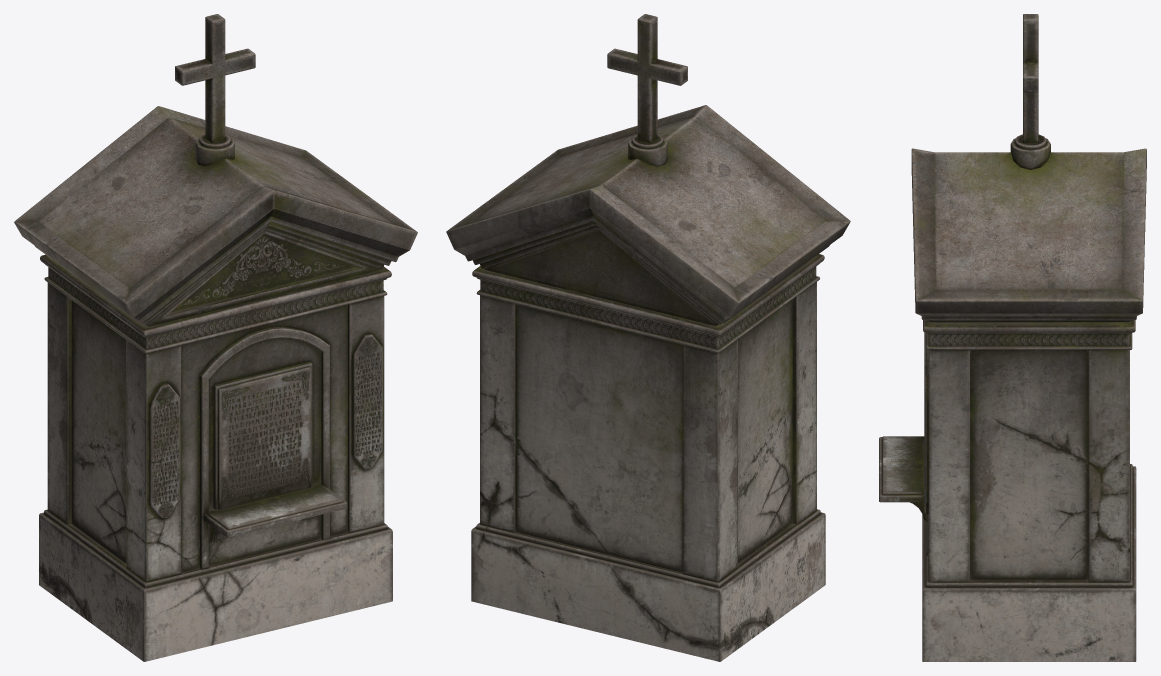
Rendered from SM_crypt_08.fbx.
The picture shows the model from 3 angles, left to right: view 1: azimuth 30°, elevation 25°; view 2: azimuth 150°, elevation 25°; view 3: azimuth 270°, elevation 25°; orthographic projection.
Visible parts, largest first — view 1: SM_crypt_08; view 2: SM_crypt_08; view 3: SM_crypt_08.
Boxes of the visible parts, <box> form: SM_crypt_08: <box>14,14,417,661</box>; SM_crypt_08: <box>446,14,850,661</box>; SM_crypt_08: <box>879,14,1146,661</box>.
Size of the model in its own units: 190 by 357 by 149.
